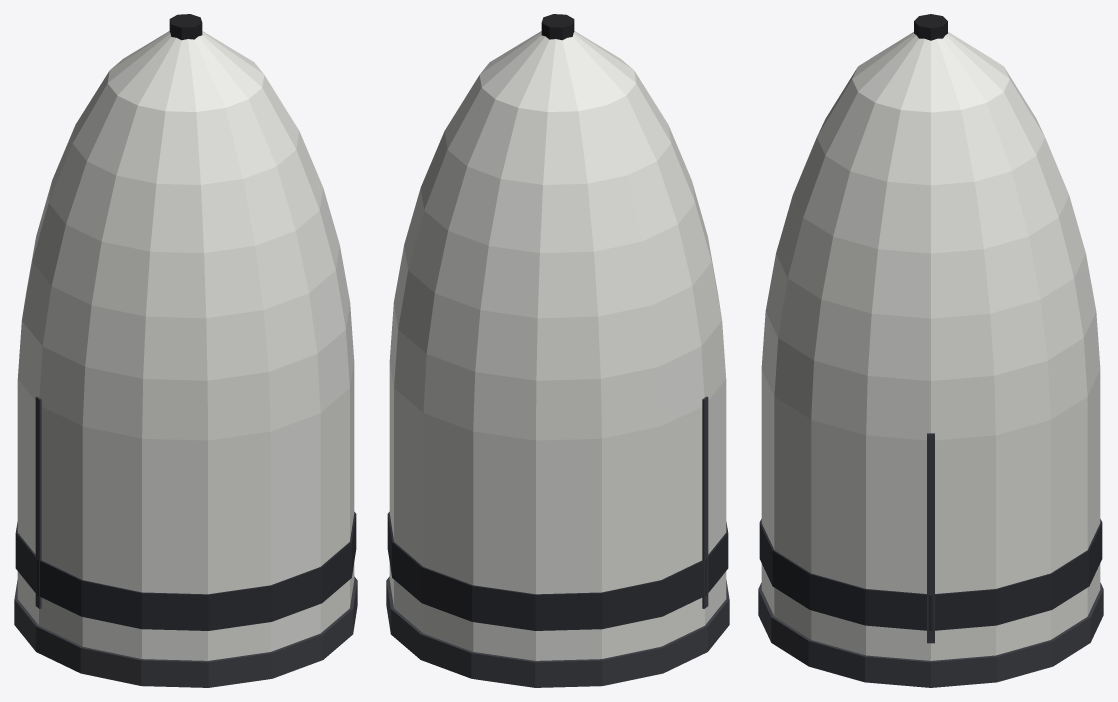
Rendered from Head_Fairing_L.fbx.
The picture shows the model from 3 angles, left to right: view 1: azimuth 30°, elevation 25°; view 2: azimuth 150°, elevation 25°; view 3: azimuth 270°, elevation 25°; orthographic projection.
Visible parts, largest first — view 1: Head_Fairing_L; view 2: Head_Fairing_L; view 3: Head_Fairing_L.
Part boxes in pixels (box(x1,y1,x2,y2)): Head_Fairing_L: box(14, 14, 357, 687); Head_Fairing_L: box(386, 14, 729, 687); Head_Fairing_L: box(758, 14, 1103, 687).
Size of the model in its own units: 3.06 by 5.8 by 3.06.
1 material, 1 textured.
